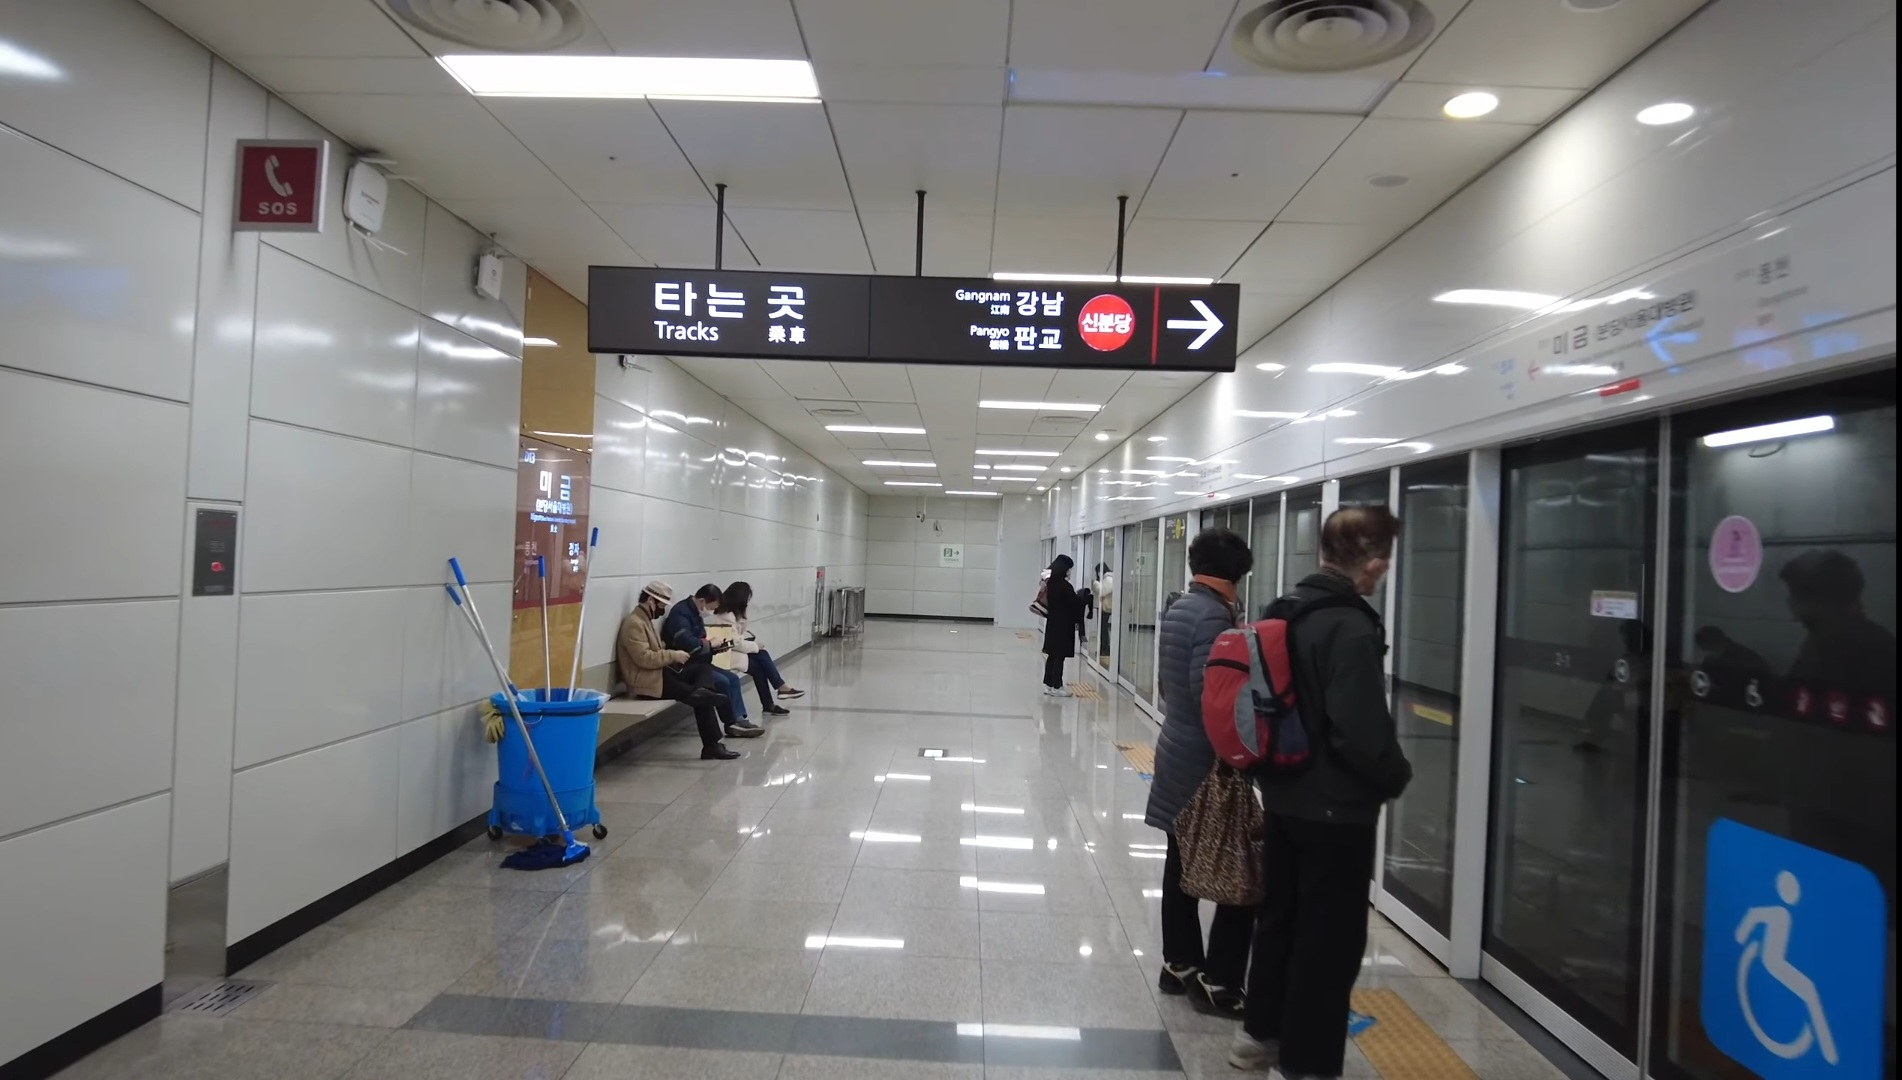signBoard: (577, 234, 1248, 381)
